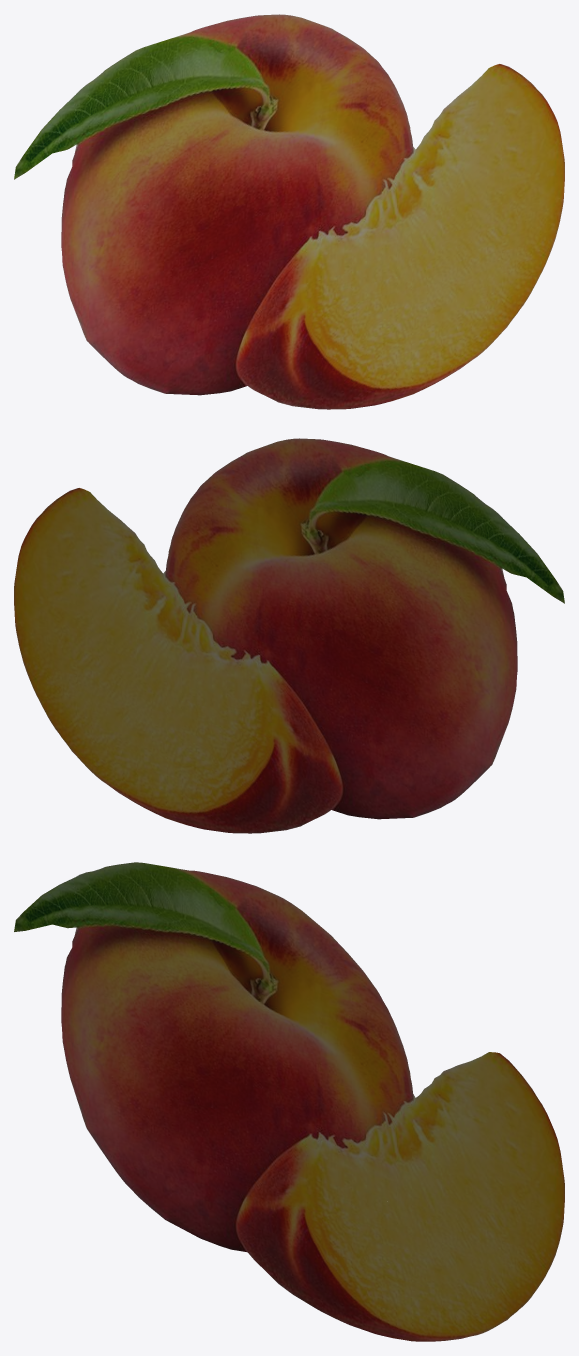
Rendered from pesca.gltf.
3 views of the same model, one above another, from view 1: azimuth 30°, elevation 25°; view 2: azimuth 150°, elevation 25°; view 3: azimuth 330°, elevation 25° (orthographic).
Parts seen in each view (by area): view 1: pesca_290, pesca_292, pesca_278, pesca_005, pesca_289, pesca_350, pesca_389, pesca_391, pesca_008, pesca_422, pesca_277, pesca_014 (+85 smaller); view 2: pesca_290, pesca_292, pesca_278, pesca_005, pesca_289, pesca_350, pesca_389, pesca_391, pesca_008, pesca_422, pesca_277, pesca_014 (+85 smaller); view 3: pesca_290, pesca_292, pesca_278, pesca_005, pesca_289, pesca_350, pesca_391, pesca_389, pesca_008, pesca_422, pesca_014, pesca_277 (+63 smaller).
Part boxes in pixels (x1,y1,x2,y2): pesca_290: [221, 107, 339, 216]; pesca_292: [415, 156, 535, 230]; pesca_278: [221, 61, 339, 145]; pesca_005: [163, 146, 268, 217]; pesca_289: [269, 146, 350, 220]; pesca_350: [122, 233, 187, 343]; pesca_389: [415, 172, 535, 240]; pesca_391: [127, 104, 207, 186]; pesca_008: [334, 283, 441, 358]; pesca_422: [350, 150, 415, 231]; pesca_277: [127, 61, 268, 107]; pesca_014: [471, 67, 535, 170]; pesca_290: [239, 531, 357, 640]; pesca_292: [43, 580, 163, 654]; pesca_278: [239, 485, 357, 569]; pesca_005: [310, 570, 415, 641]; pesca_289: [228, 570, 309, 644]; pesca_350: [391, 657, 456, 767]; pesca_389: [43, 596, 163, 664]; pesca_391: [371, 528, 451, 610]; pesca_008: [137, 707, 244, 782]; pesca_422: [163, 574, 228, 655]; pesca_277: [310, 485, 451, 531]; pesca_014: [43, 491, 107, 594]; pesca_290: [221, 961, 339, 1093]; pesca_292: [415, 1118, 535, 1179]; pesca_278: [221, 938, 339, 1056]; pesca_005: [163, 994, 268, 1093]; pesca_289: [269, 1057, 350, 1136]; pesca_350: [122, 1051, 187, 1180]; pesca_391: [127, 912, 207, 1007]; pesca_389: [415, 1179, 535, 1225]; pesca_008: [334, 1210, 441, 1319]; pesca_422: [351, 1098, 415, 1178]; pesca_014: [471, 1060, 535, 1177]; pesca_277: [128, 912, 268, 960].
Bounding box in the file's own units: 0.13 × 0.0949 × 1.69e-08.
Materials: 1 (1 with a texture image).
